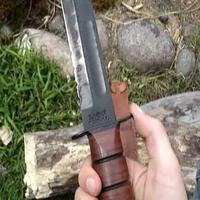knife: (60, 1, 143, 189)
